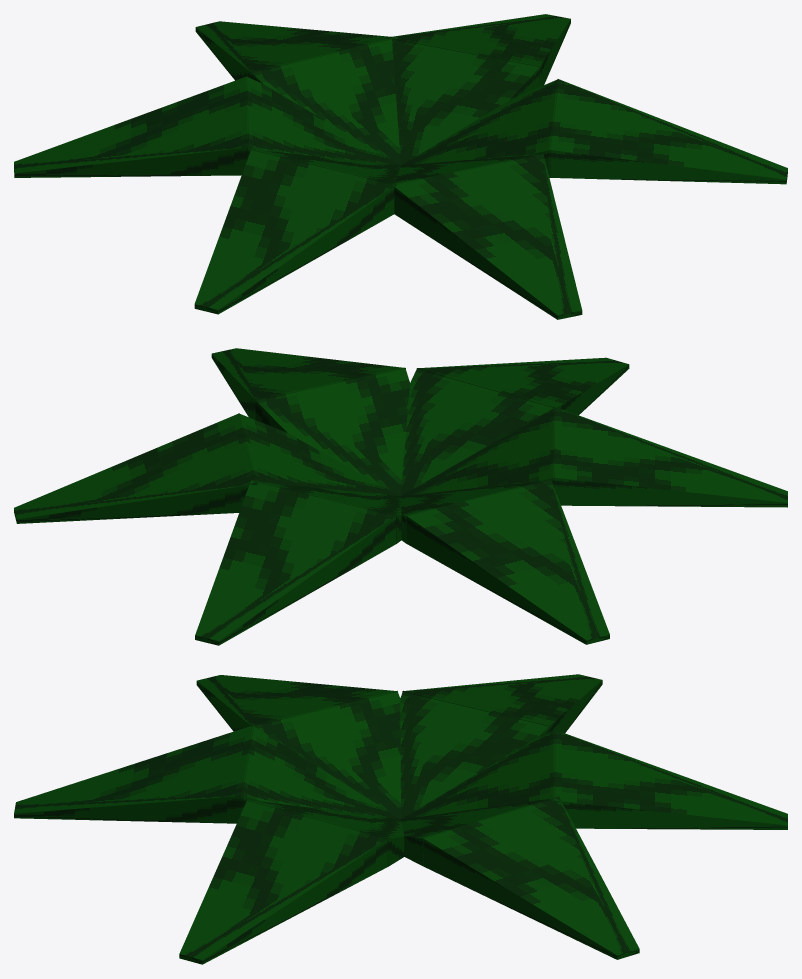
The model's file is ObjectBush2.dae.
3 views of the same model, one above another, from view 1: azimuth 30°, elevation 25°; view 2: azimuth 150°, elevation 25°; view 3: azimuth 270°, elevation 25° (orthographic).
Parts seen in each view (by area): view 1: Cube.008, Cube.007, Cube.004, Cube.011, Cube.002, Cube.001, Cube.005, Cube, Cube.010, Cube.003, Cube.009, Cube.006; view 2: Cube, Cube.011, Cube.003, Cube.008, Cube.005, Cube.006, Cube.007, Cube.004, Cube.009, Cube.002, Cube.010, Cube.001; view 3: Cube.004, Cube.003, Cube, Cube.007, Cube.010, Cube.009, Cube.006, Cube.011, Cube.008, Cube.001, Cube.002, Cube.005.
Part boxes in pixels (box(x1,y1,x2,y2)): Cube.008: box(194, 149, 396, 314); Cube.007: box(392, 153, 582, 319); Cube.004: box(549, 79, 787, 184); Cube.011: box(14, 76, 249, 177); Cube.002: box(386, 37, 540, 164); Cube.001: box(251, 37, 400, 165); Cube.005: box(401, 79, 558, 177); Cube: box(195, 21, 397, 80); Cube.010: box(246, 76, 399, 165); Cube.003: box(386, 14, 570, 86); Cube.009: box(250, 149, 400, 185); Cube.006: box(392, 154, 543, 185); Cube: box(195, 480, 397, 645); Cube.011: box(406, 479, 609, 644); Cube.003: box(14, 413, 257, 523); Cube.008: box(553, 406, 787, 507); Cube.005: box(255, 367, 409, 495); Cube.006: box(400, 368, 556, 495); Cube.007: box(416, 357, 629, 415); Cube.004: box(211, 348, 405, 419); Cube.009: box(401, 406, 555, 496); Cube.002: box(238, 413, 399, 495); Cube.010: box(400, 479, 551, 543); Cube.001: box(250, 480, 401, 543); Cube.004: box(179, 800, 388, 964); Cube.003: box(422, 796, 639, 959); Cube: box(553, 729, 787, 829); Cube.007: box(14, 725, 254, 823); Cube.010: box(400, 690, 549, 818); Cube.009: box(251, 690, 400, 818); Cube.006: box(241, 725, 400, 819); Cube.011: box(402, 674, 602, 733); Cube.008: box(196, 675, 397, 731); Cube.001: box(401, 729, 555, 819); Cube.002: box(401, 797, 559, 866); Cube.005: box(246, 800, 404, 866).
Size of the model in its own units: 5.76 by 6.59 by 0.5572.
1 material, 1 textured.
